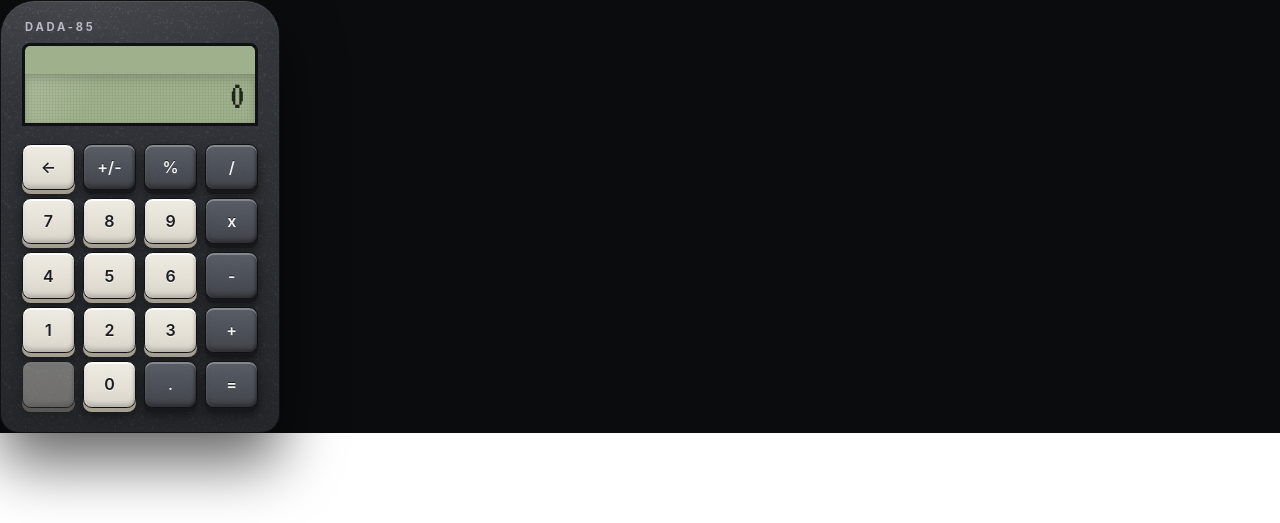
it: Calculator › operator feedback › shows the pending operation above the display
The image size is (1280, 523).
Click the button "5" at (109, 276), box left=83, top=252, right=136, bottom=299
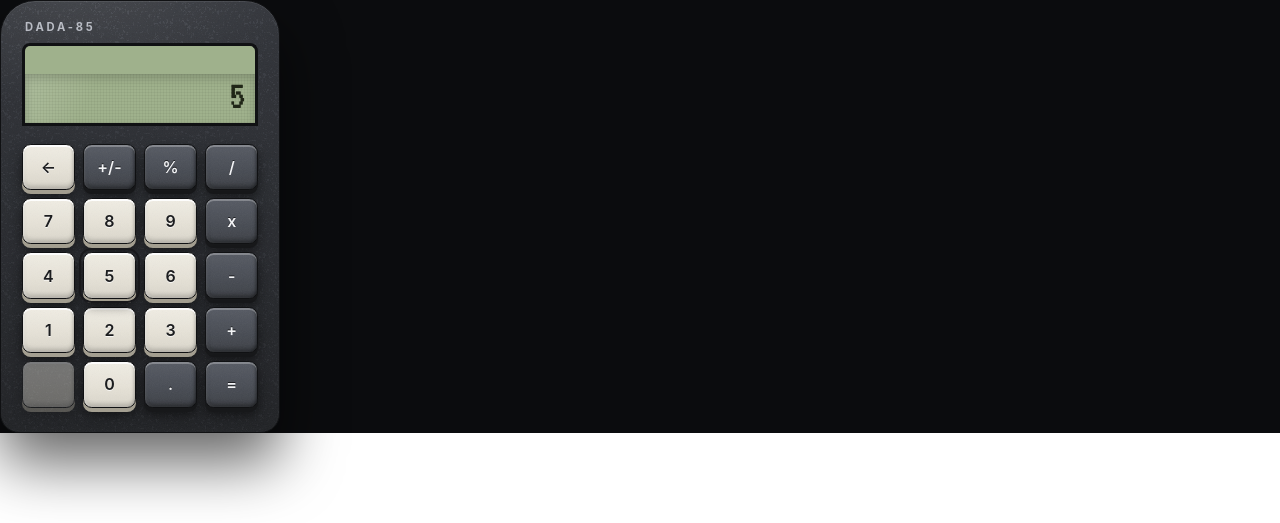
Click the button "+" at (232, 330), box left=205, top=307, right=258, bottom=353
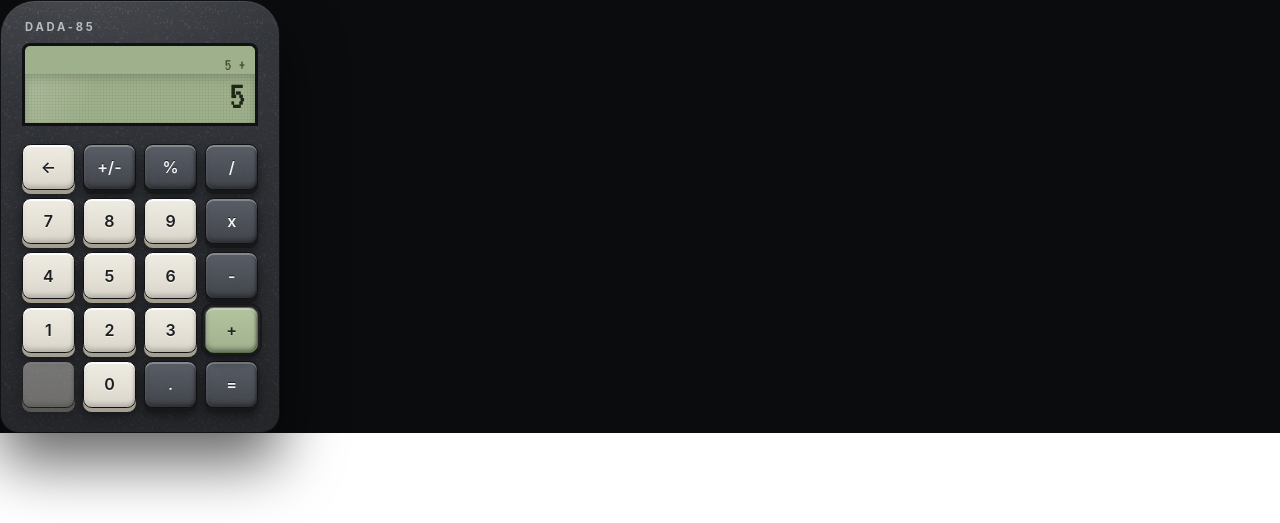
Now the text "5 +" is shown, box left=22, top=43, right=258, bottom=74
